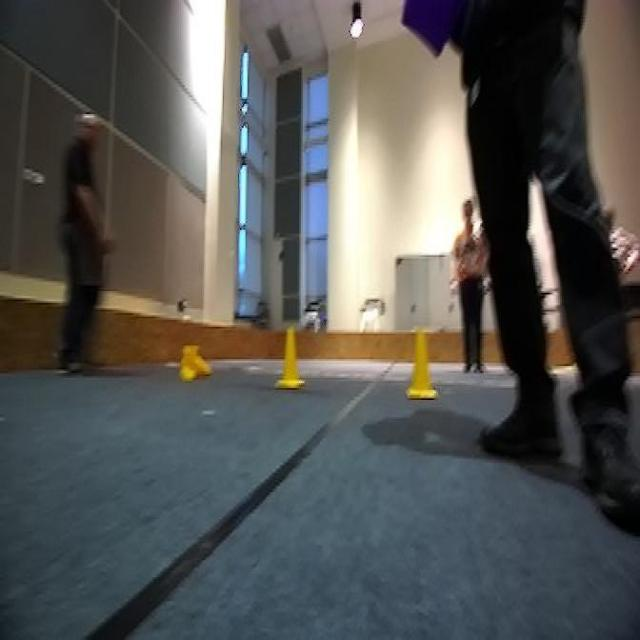frc_cone: (400, 326, 445, 396), (273, 328, 306, 386), (179, 346, 210, 381)
frc_cube: (400, 0, 465, 54)
